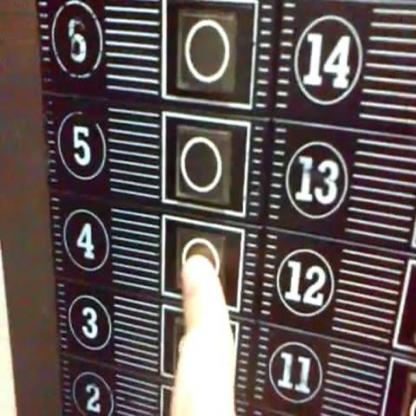11: (266, 337, 322, 404)
12: (274, 242, 334, 320)
13: (281, 134, 349, 219)
14: (290, 5, 364, 108)
2: (69, 368, 114, 415)
3: (65, 290, 112, 352)
4: (59, 204, 112, 274)
5: (53, 105, 108, 182)
6: (47, 0, 104, 80)
empty: (170, 5, 241, 100), (169, 118, 235, 210)
